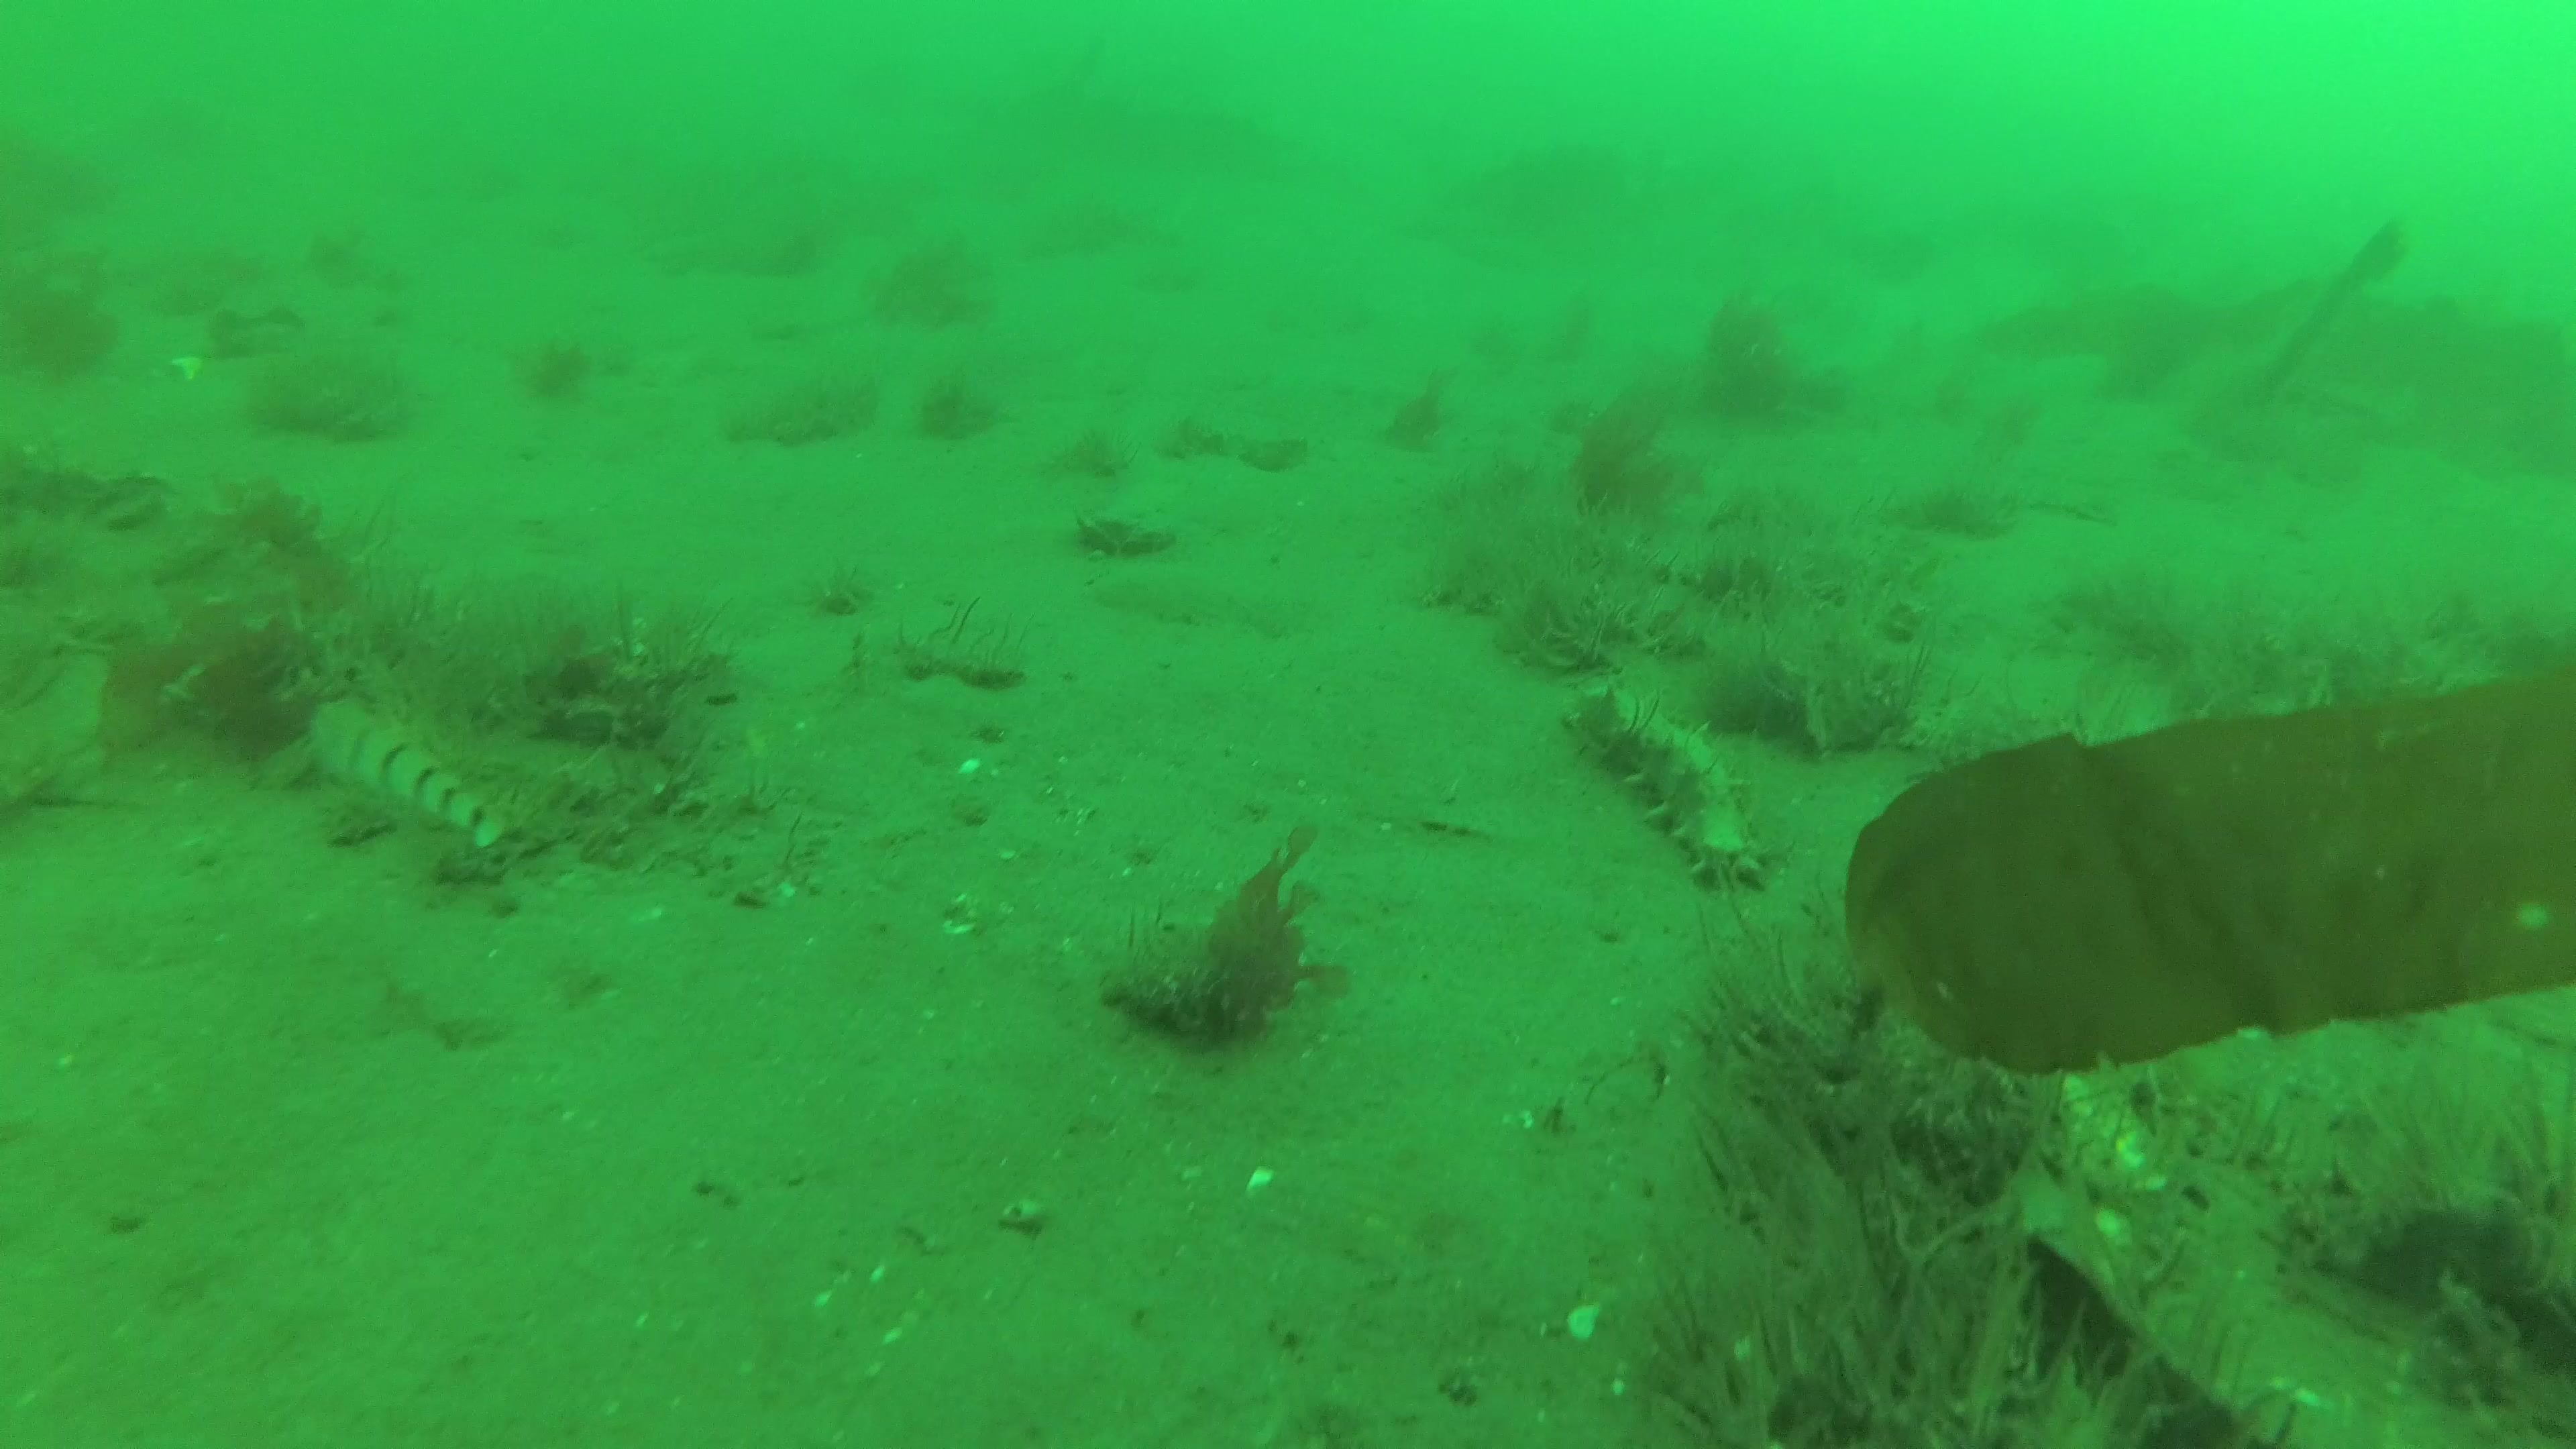holothurian: (1566, 672, 1771, 893)
